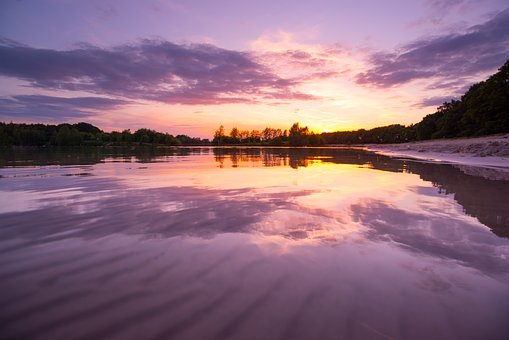sea: (8, 131, 508, 338)
sky: (12, 4, 509, 131)
